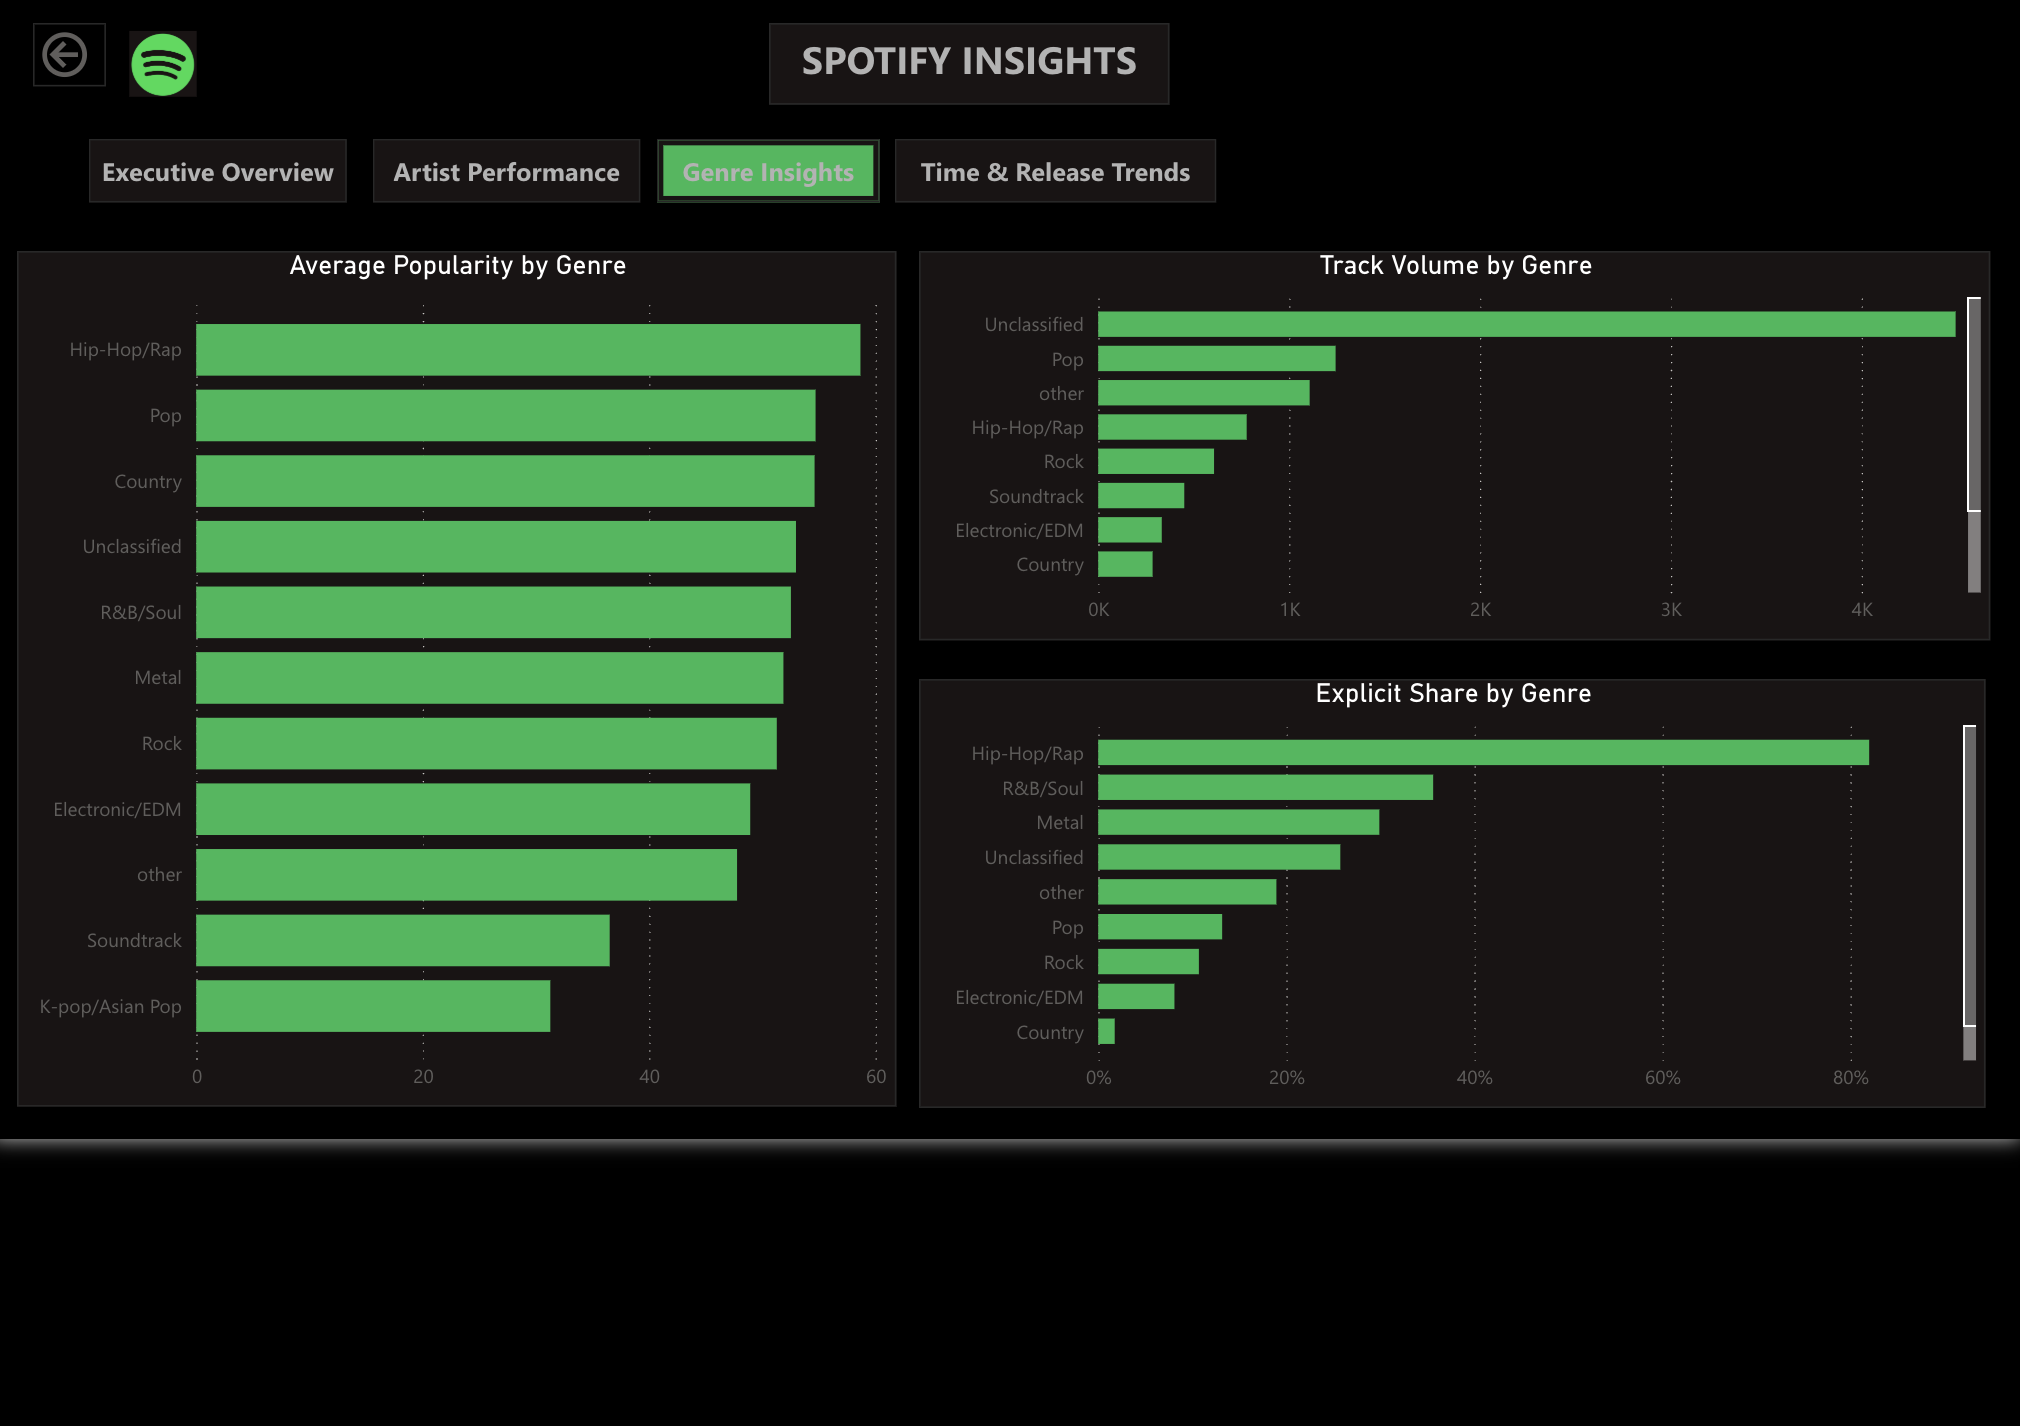

This screenshot's page, from the dashboard's own definition file:
{"tool":"powerbi","page":{"name":"Genre Insights","canvas":[1280,720],"ordinal":2},"visuals":[{"type":"barChart","title":"Average Popularity by Genre","fields":{"Y":["_Measures.Avg Track Popularity"],"Category":["bridge_artist_genres.genre_group"]},"box":[16.3,159.6,554.3,539.5],"z":0},{"type":"clusteredBarChart","title":"Track Volume by Genre","fields":{"Category":["bridge_artist_genres.genre_group"],"Y":["_Measures.Distinct Tracks"]},"box":[585.3,159.6,675.5,245.4],"z":1000},{"type":"barChart","title":"Explicit Share by Genre","fields":{"Category":["bridge_artist_genres.genre_group"],"Y":["_Measures.Explicit Track %"]},"box":[585.3,430.1,672.5,270.5],"z":2000},{"type":"actionButton","box":[26.6,16.3,45.8,39.9],"z":3000},{"type":"actionButton","box":[240.9,90.2,168.5,39.9],"z":4000},{"type":"actionButton","box":[419.8,90.2,140.4,39.9],"z":5000},{"type":"actionButton","box":[570.5,90.2,202.5,39.9],"z":6000},{"type":"actionButton","box":[62.1,90.2,162.6,39.9],"z":7000},{"type":"textbox","box":[490.7,16.3,252.7,51.7],"z":8000},{"type":"image","box":[78.3,16.3,60.6,51.7],"z":9000}]}

Visuals, with their boxes on the page's 1280x720 design canvas (x1, y1, x2, y2). These are canvas units, not pixel positions in the 2020x1426 screenshot, which may show the page scaled, cropped or inside an application window:
"Average Popularity by Genre" barChart: x1=16 y1=160 x2=571 y2=699
"Track Volume by Genre" clusteredBarChart: x1=585 y1=160 x2=1261 y2=405
"Explicit Share by Genre" barChart: x1=585 y1=430 x2=1258 y2=701
actionButton: x1=27 y1=16 x2=72 y2=56
actionButton: x1=241 y1=90 x2=409 y2=130
actionButton: x1=420 y1=90 x2=560 y2=130
actionButton: x1=570 y1=90 x2=773 y2=130
actionButton: x1=62 y1=90 x2=225 y2=130
textbox: x1=491 y1=16 x2=743 y2=68
image: x1=78 y1=16 x2=139 y2=68
